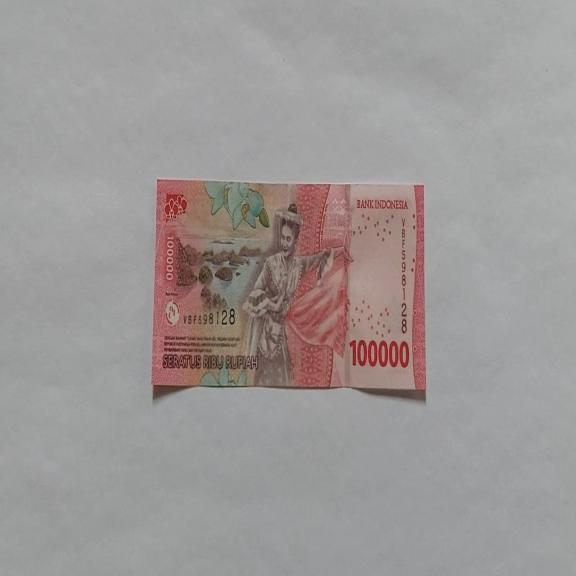Kertas: (151, 178, 426, 396), (349, 336, 410, 370)
